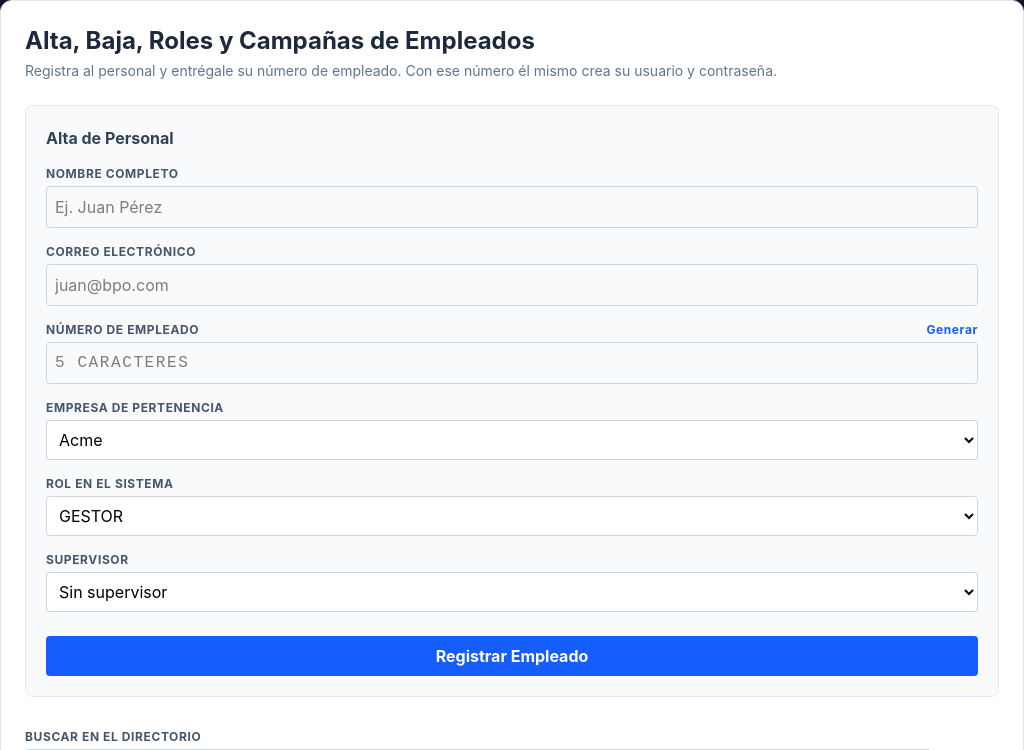
Test: EmpleadosManager: alta de personal › muestra el error que devuelve el backend al registrar
The image size is (1024, 750).
Type "Nueva Persona" into the field with placeholder "Ej. Juan Pérez". click: (512, 207)
box: [46, 186, 978, 228]
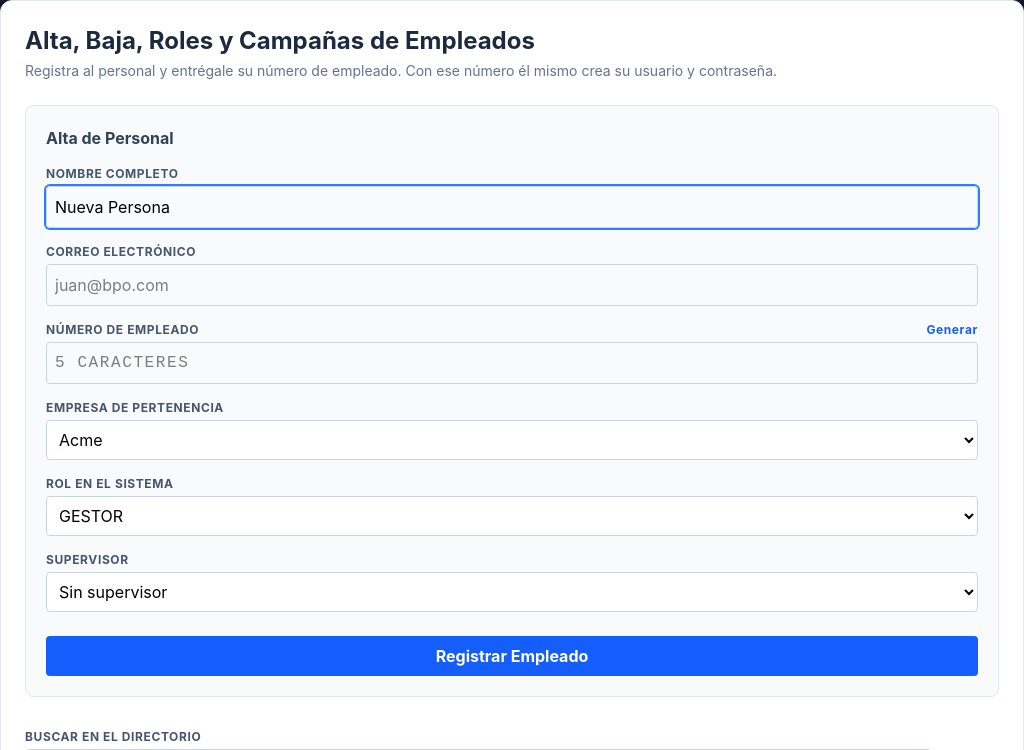
Type "nueva@acme.com" into the field with placeholder "juan@bpo.com". click: (512, 285)
box: [46, 264, 978, 306]
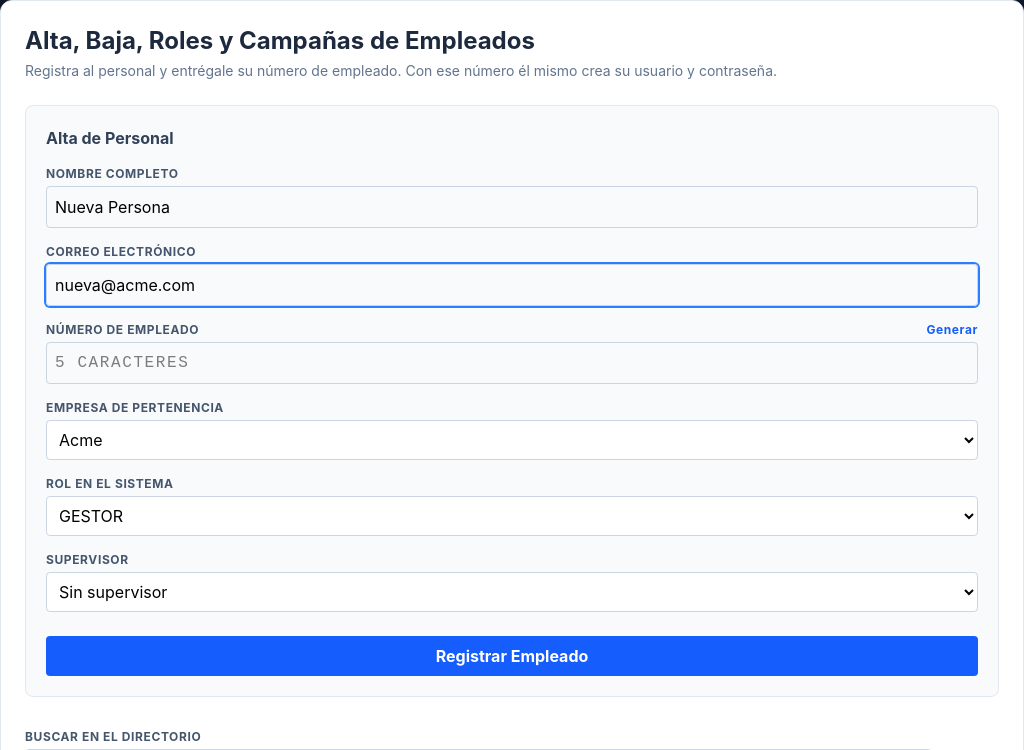
Type "AB123" into the field with placeholder "5 Caracteres". click: (512, 363)
box: [46, 342, 978, 384]
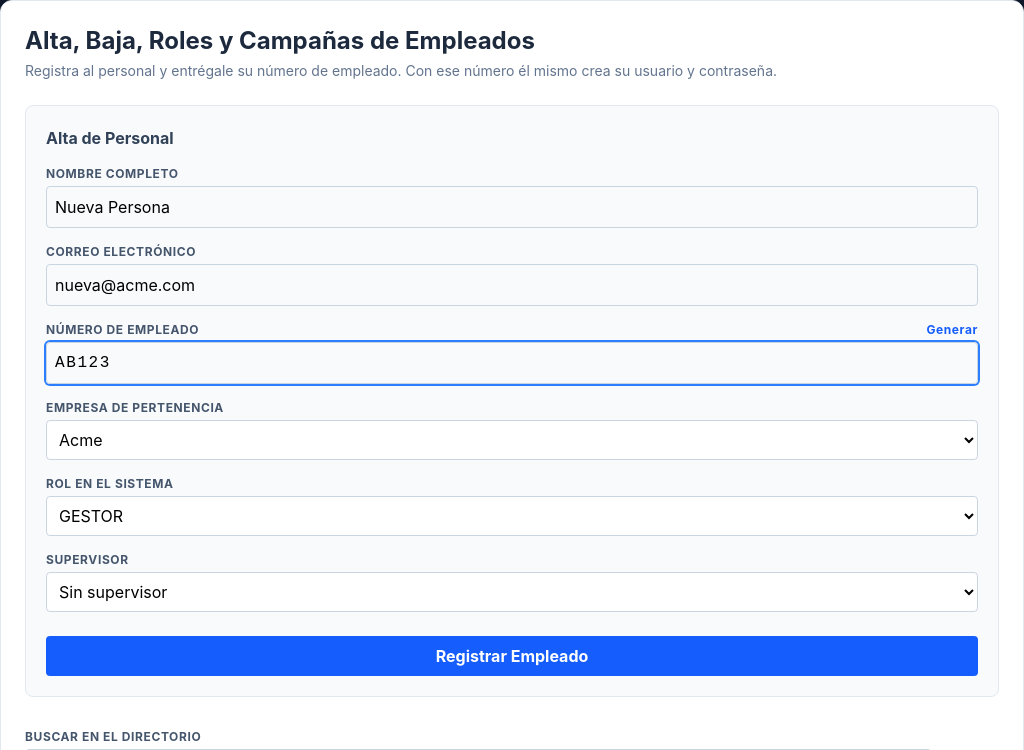
Select "Acme" in the dropdown below "Empresa de Pertenencia". click: (512, 440)
box: [46, 420, 978, 460]
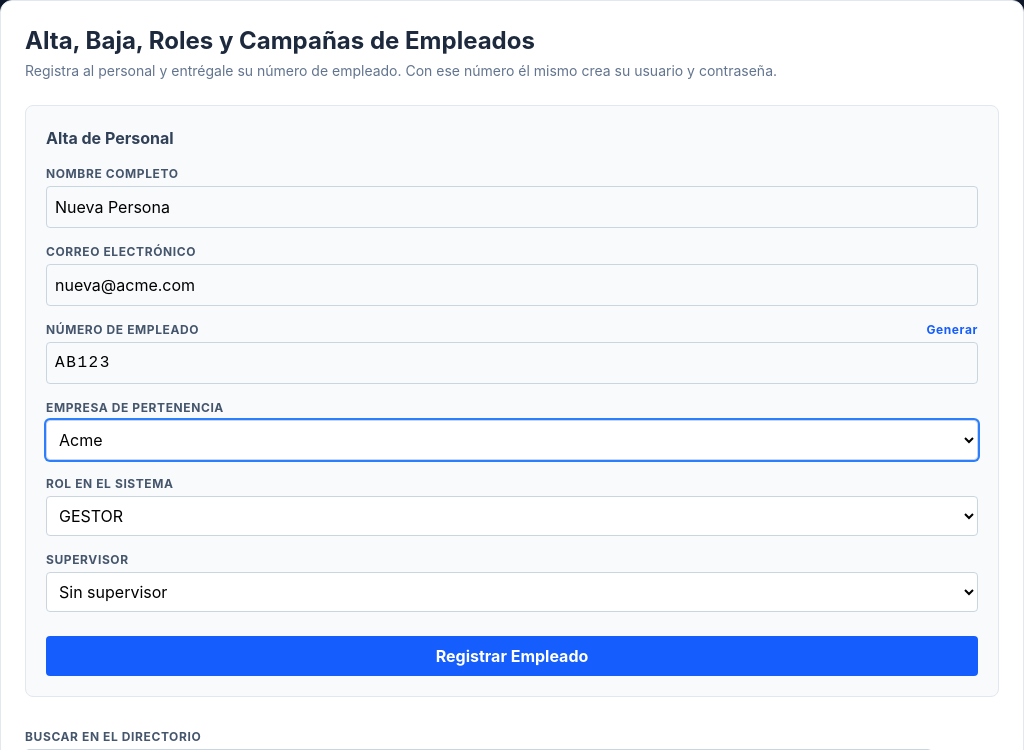
Select "GESTOR" in the dropdown below "Rol en el Sistema". click: (512, 516)
box: [46, 496, 978, 536]
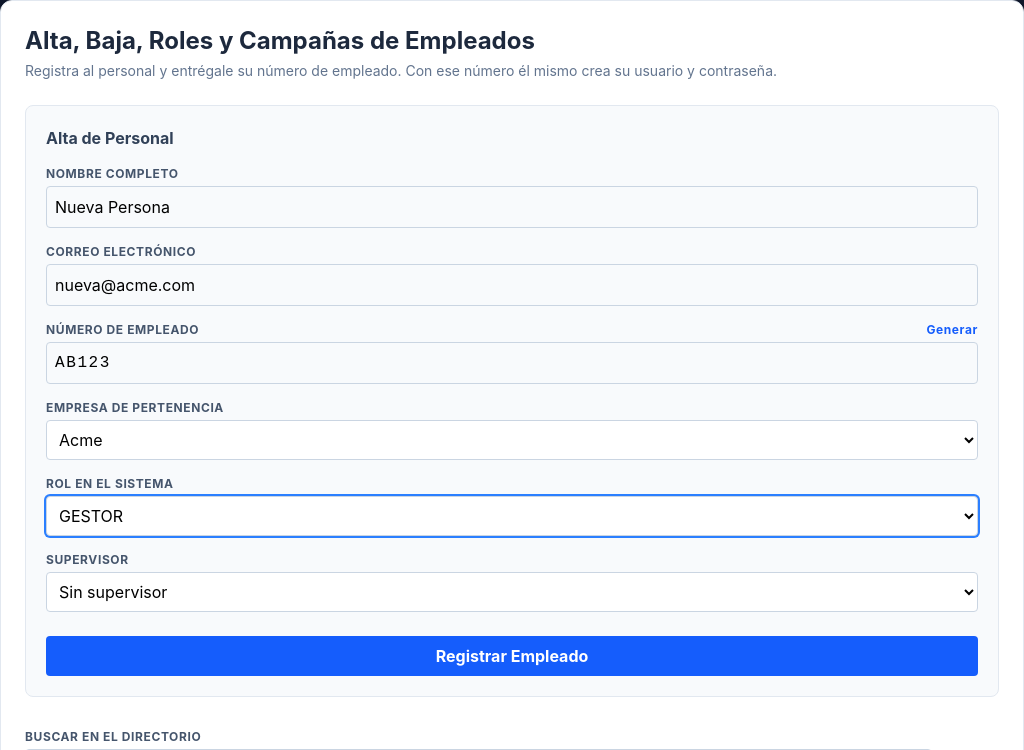
Click the button "Registrar Empleado". click: (512, 656)
box: [46, 636, 978, 676]
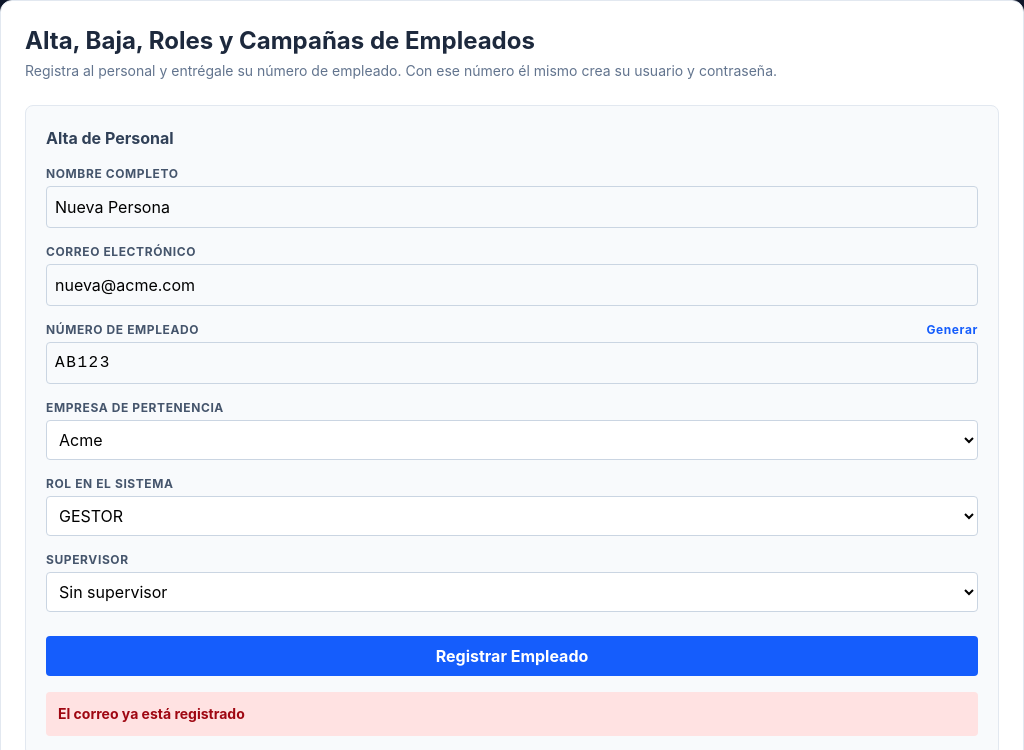
Now the text "El correo ya está registrado" is shown, box [46, 692, 978, 736]
